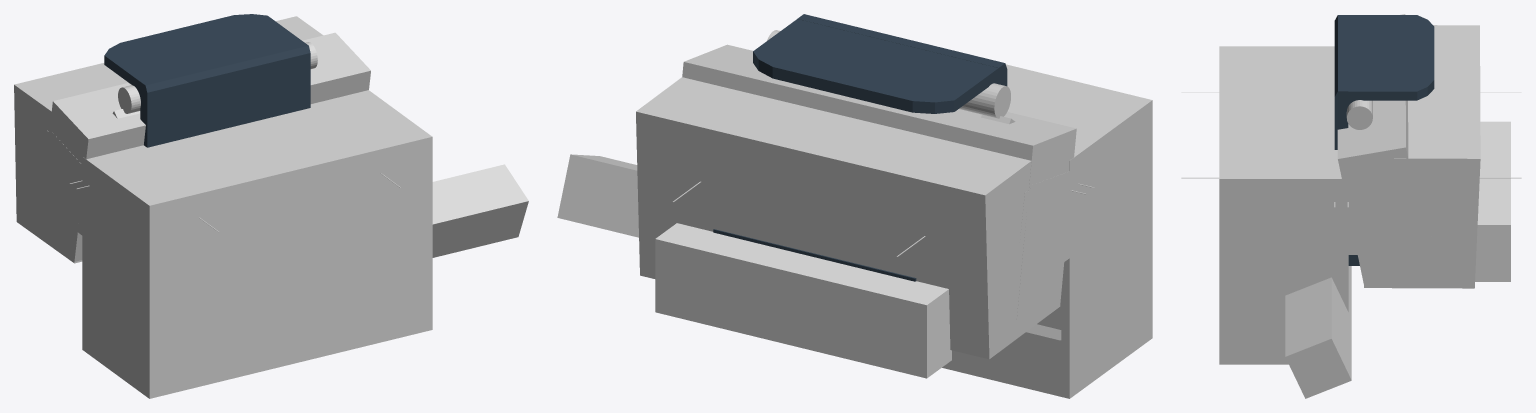
File: DroomvluchtGondel.fbx
The picture shows the model from 3 angles, left to right: view 1: azimuth 30°, elevation 25°; view 2: azimuth 150°, elevation 25°; view 3: azimuth 270°, elevation 25°; orthographic projection. The views are drawn at different scales.
Parts seen in each view (by area): view 1: CubeCut2, Back, CubeCcut4.001, Roof, CubeCcut4.002, Cube, CubeCut3, CubeCut8, CubeCcut4, Cylinder; view 2: CubeCcut4.002, CubeCut2, Cubecut, CubeCcut4.001, Roof, Cube, CubeCut8, Back, Cylinder, Frontthing; view 3: CubeCut2, CubeCcut4.002, Roof, Cube, Cubecut, CubeCcut4.001, Back, CubeCut3, CubeCcut4, Cylinder, CubeCut8.
Part boxes in pixels (x1=…): CubeCut2: x1=82, y1=90, x2=432, y2=398; Back: x1=140, y1=42, x2=310, y2=147; CubeCcut4.001: x1=38, y1=32, x2=370, y2=261; Roof: x1=104, y1=14, x2=302, y2=90; CubeCcut4.002: x1=14, y1=16, x2=323, y2=263; Cube: x1=432, y1=164, x2=528, y2=257; CubeCut3: x1=73, y1=162, x2=110, y2=256; CubeCut8: x1=49, y1=131, x2=85, y2=212; CubeCcut4: x1=41, y1=129, x2=80, y2=211; Cylinder: x1=118, y1=42, x2=317, y2=113; CubeCcut4.002: x1=636, y1=77, x2=1060, y2=359; CubeCut2: x1=942, y1=64, x2=1152, y2=398; Cubecut: x1=655, y1=223, x2=951, y2=378; CubeCcut4.001: x1=682, y1=44, x2=1076, y2=321; Roof: x1=753, y1=19, x2=998, y2=113; Cube: x1=557, y1=154, x2=1061, y2=340; CubeCut8: x1=1028, y1=171, x2=1072, y2=257; Back: x1=797, y1=14, x2=1007, y2=86; Cylinder: x1=767, y1=30, x2=1010, y2=118; Frontthing: x1=713, y1=229, x2=916, y2=281; CubeCut2: x1=1219, y1=46, x2=1348, y2=364; CubeCcut4.002: x1=1364, y1=25, x2=1480, y2=288; Roof: x1=1347, y1=15, x2=1434, y2=100; Cube: x1=1285, y1=266, x2=1351, y2=398; Cubecut: x1=1475, y1=121, x2=1510, y2=281; CubeCcut4.001: x1=1337, y1=14, x2=1408, y2=283; Back: x1=1334, y1=15, x2=1348, y2=149; CubeCut3: x1=1295, y1=190, x2=1364, y2=254; CubeCcut4: x1=1362, y1=219, x2=1432, y2=253; Cylinder: x1=1346, y1=100, x2=1372, y2=129; CubeCut8: x1=1342, y1=188, x2=1422, y2=252.
Size of the model in its own units: 301 by 172 by 217.
